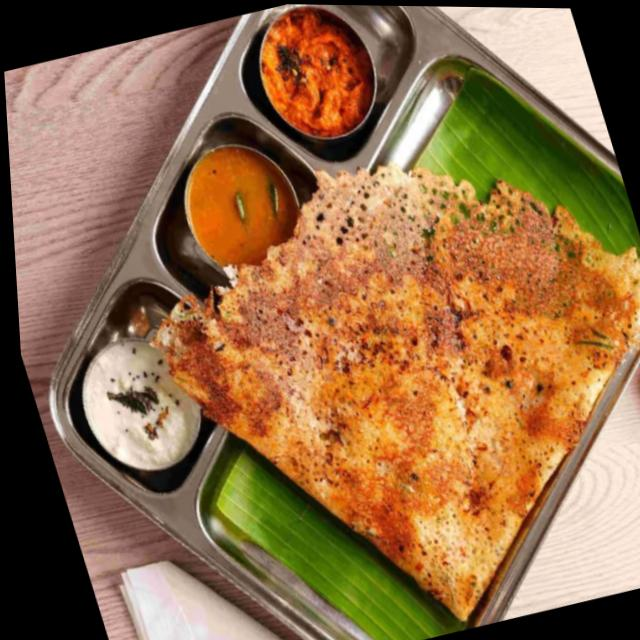DOSA: (147, 161, 640, 613)
RED CHUTNEY: (265, 18, 366, 133)
SAMBAR: (192, 153, 292, 262)
WHITE CHUTNEY: (84, 348, 197, 466)
